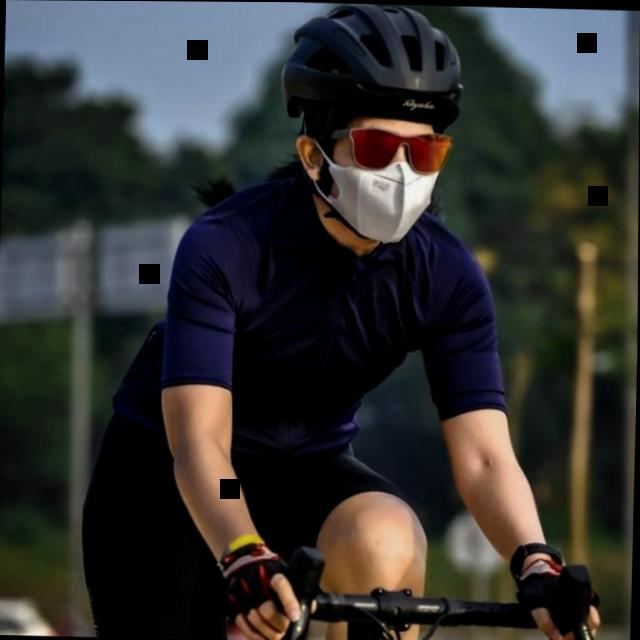Mask: (323, 121, 438, 245)
